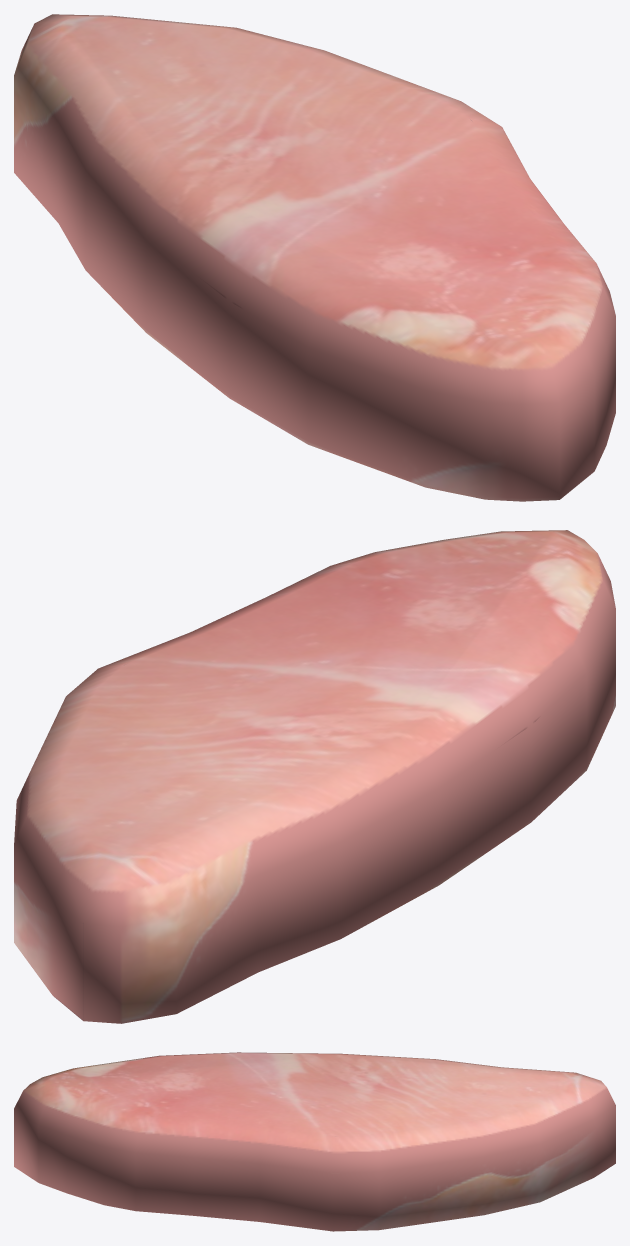
Rendered from chicken_raw.fbx.
3 renders of one model, top to bottom at view 1: azimuth 30°, elevation 25°; view 2: azimuth 150°, elevation 25°; view 3: azimuth 270°, elevation 25°, orthographic. The views are drawn at different scales.
Visible parts, largest first — view 1: Plane.004; view 2: Plane.004; view 3: Plane.004.
Boxes of the visible parts, <box> form: Plane.004: <box>14,14,615,501</box>; Plane.004: <box>14,530,615,1023</box>; Plane.004: <box>14,1052,615,1231</box>.
Size of the model in its own units: 19.91 by 7.23 by 47.48.
